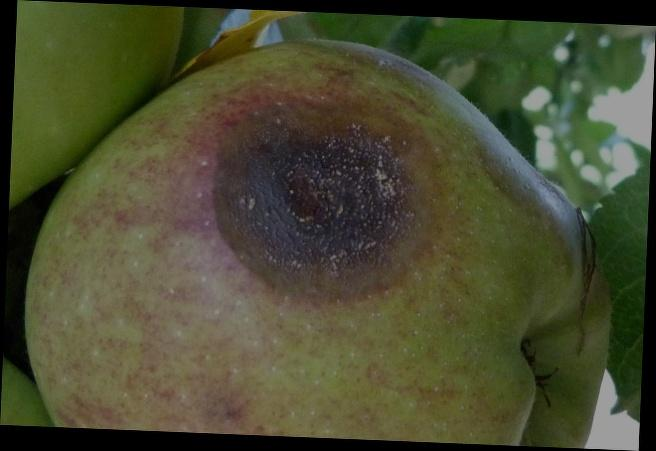rotten apple: (21, 38, 635, 438)
